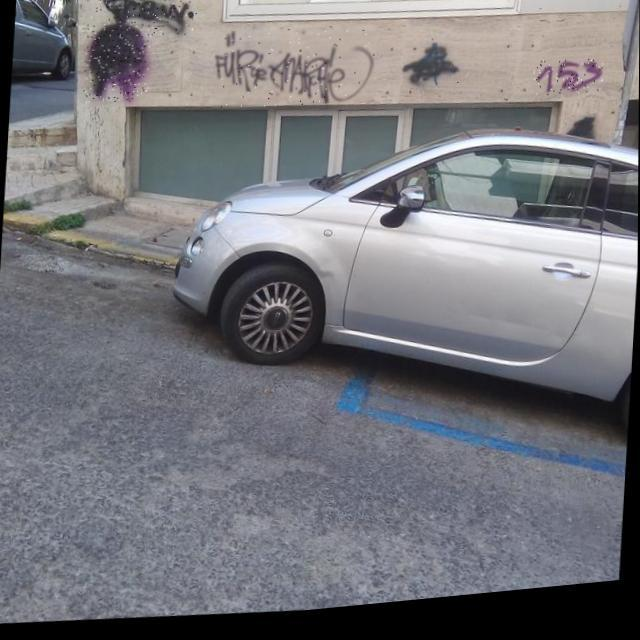-: (212, 24, 376, 121), (83, 19, 152, 108), (90, 0, 199, 46), (402, 44, 461, 100), (532, 66, 604, 110)
